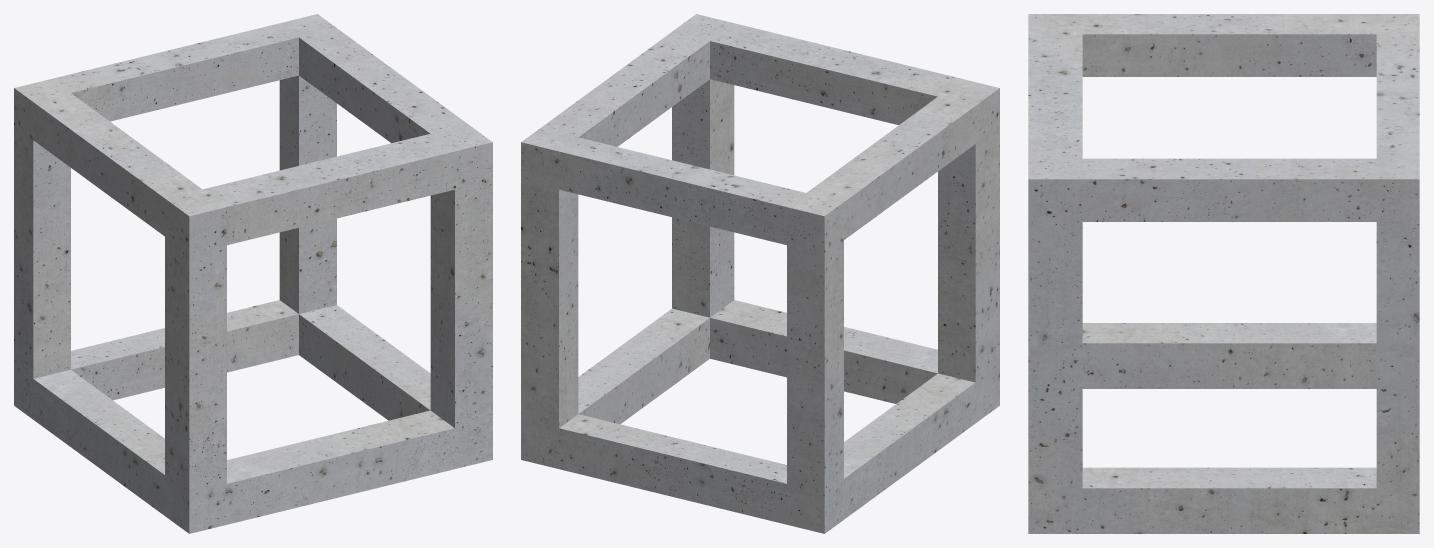
File: broken_cube.glb
3 views of the same model, side by side, from view 1: azimuth 30°, elevation 25°; view 2: azimuth 150°, elevation 25°; view 3: azimuth 270°, elevation 25° (orthographic). The views are drawn at different scales.
Parts seen in each view (by area): view 1: Cube; view 2: Cube; view 3: Cube.
Boxes of the visible parts, x1,y1,x2,y2 form: Cube: (14,14,492,533); Cube: (521,14,999,533); Cube: (1028,14,1419,533).
Bounding box in the file's own units: 1 × 1 × 1.
1 material, 1 textured.
